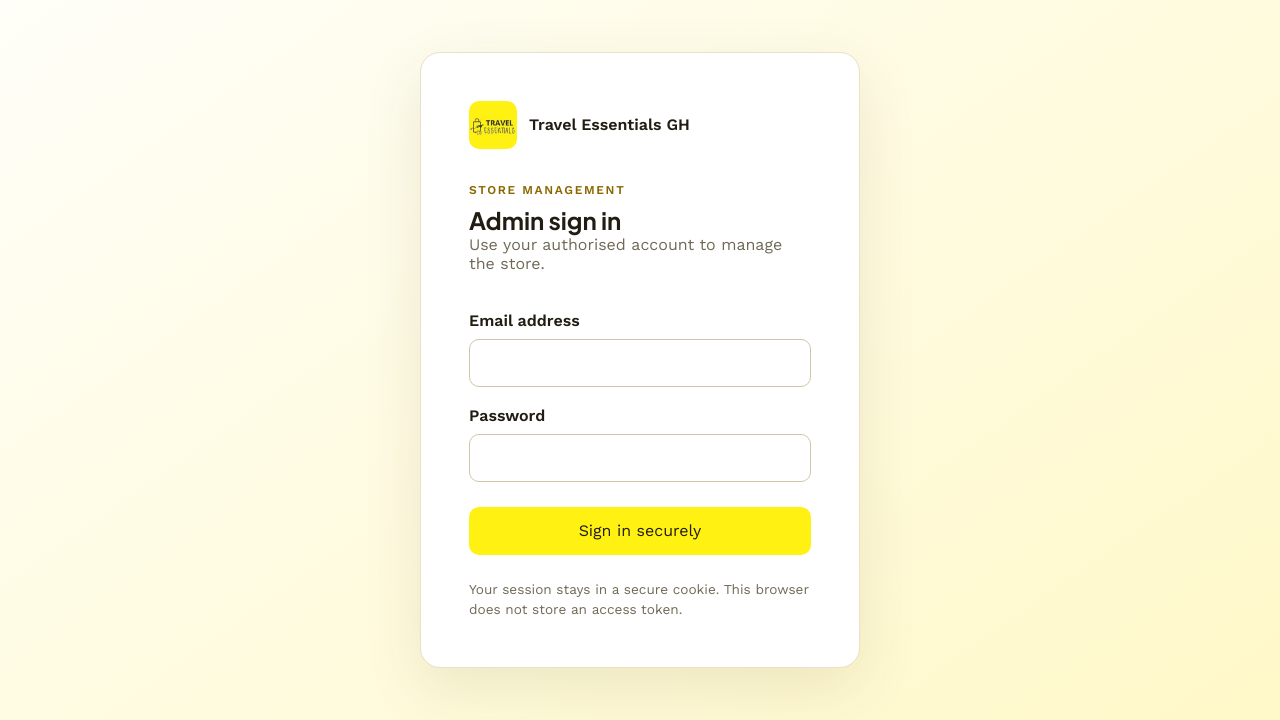
it: admin authentication and dashboard shell › logs in through the same-origin API and opens the dashboard
This screenshot has width=1280, height=720.
Type "owner@example.com" into the field labelled "Email address" at (640, 363), box [469,339,811,387]
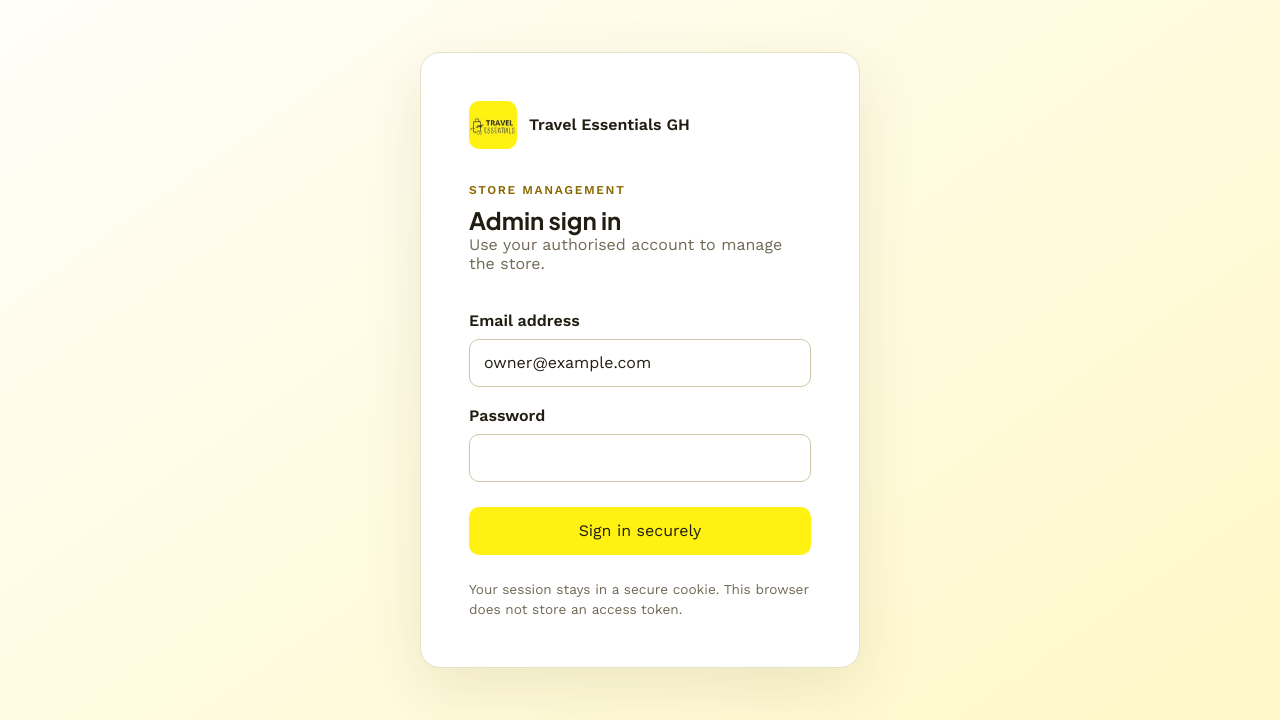
Type "correct horse battery staple" into the password field labelled "Password" at (640, 458), box [469,434,811,482]
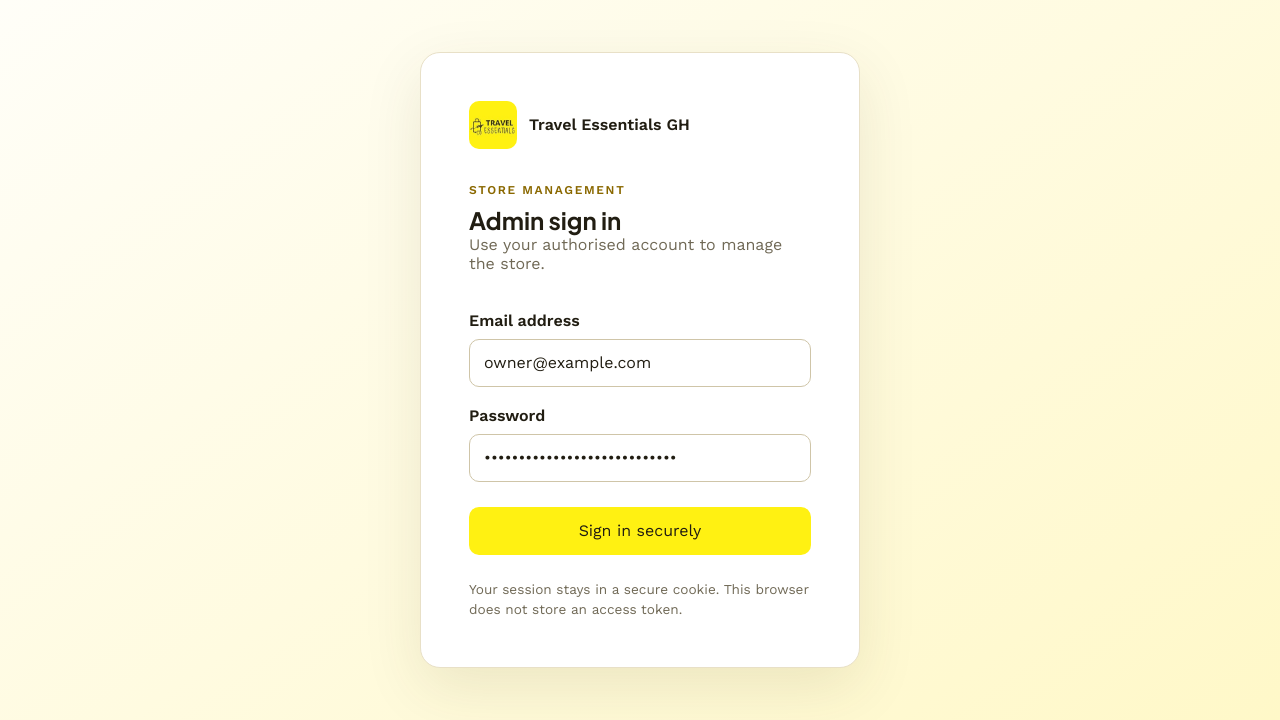
Click the button "Sign in securely" at (640, 531), box [469,507,811,555]
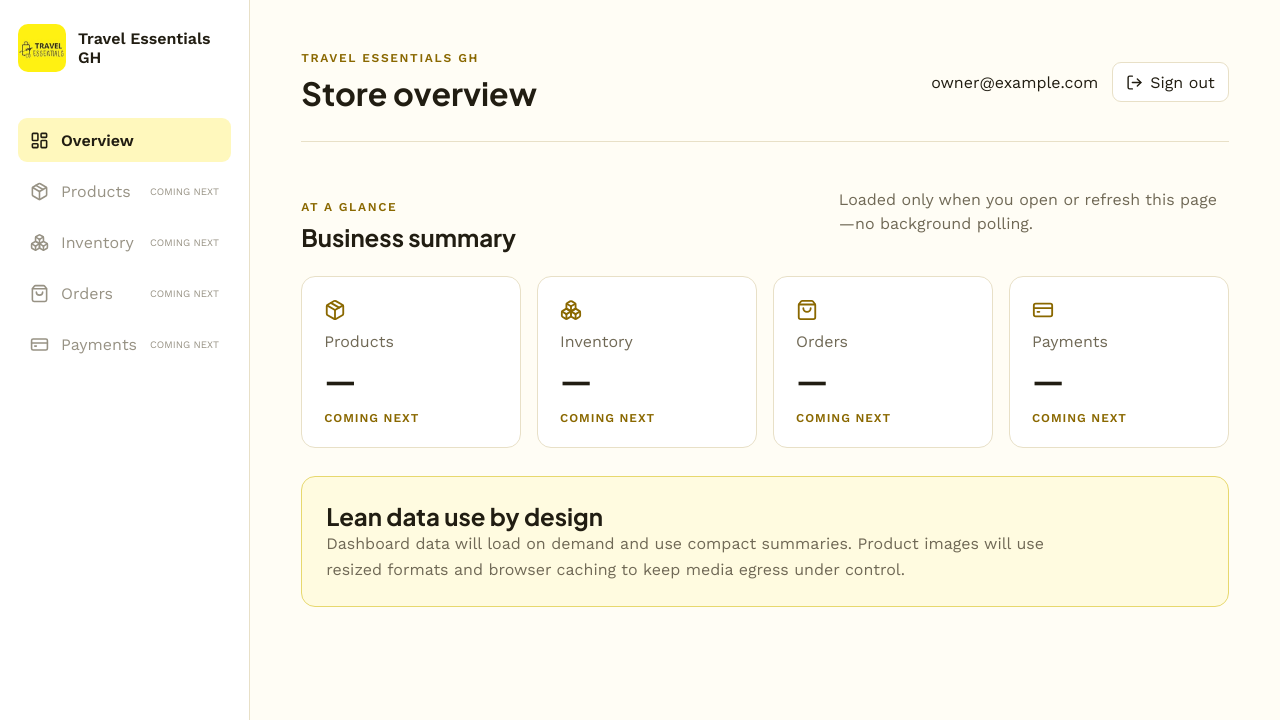
Result: the heading "Store overview" is shown at [301,73,537,113]
